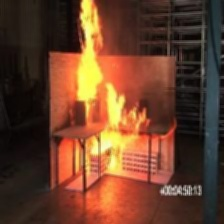fire: (65, 0, 144, 178)
